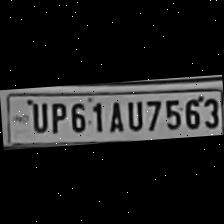1: (86, 97, 104, 132)
3: (200, 92, 218, 130)
5: (160, 95, 180, 131)
6: (64, 98, 86, 133), (180, 94, 200, 130)
7: (142, 97, 162, 132)
A: (102, 97, 124, 133)
P: (44, 99, 66, 134)
U: (26, 99, 46, 134), (122, 97, 142, 132)
